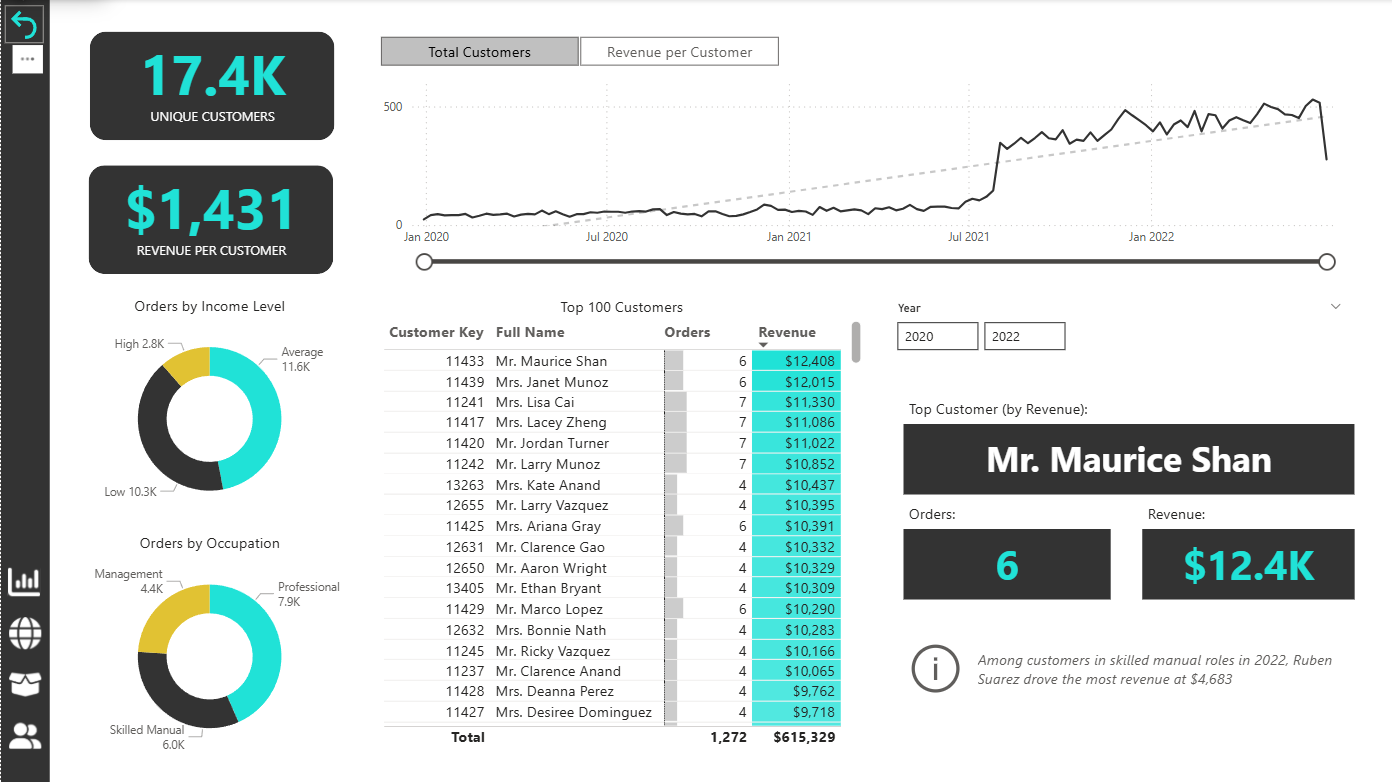

What the dashboard file says about the page in this screenshot:
{"tool":"powerbi","page":{"name":"Customer Detail","canvas":[1280,720],"ordinal":3},"visuals":[{"type":"shape","box":[0,0,45,720],"z":0},{"type":"actionButton","box":[2.5,516.7,45.6,37.8],"z":0,"group":"g1"},{"type":"shape","box":[81.7,30,225,100],"z":1000},{"type":"actionButton","box":[3.3,563.4,45.6,37.8],"z":1000,"group":"g1"},{"type":"shape","box":[80,152.7,225,100],"z":2000},{"type":"actionButton","box":[3.3,611.1,45.6,37.8],"z":2000,"group":"g1"},{"type":"card","fields":{"Values":["Measure Table.Total Customers"]},"box":[66.7,0,256.2,150],"z":3000},{"type":"actionButton","box":[3.3,657.8,45.6,37.8],"z":3000,"group":"g1"},{"type":"card","fields":{"Values":["Measure Table.Average Revenue per Customer"]},"box":[65,122.7,256.2,150],"z":4000},{"type":"lineChart","fields":{"Y":["Measure Table.Total Customers"],"Category":["Calendar Lookup.Date Hierarchy.Year","Calendar Lookup.Date Hierarchy.Start of Month","Calendar Lookup.Date Hierarchy.Start of Week","Calendar Lookup.Date Hierarchy.Date"]},"box":[345.9,63.3,898.6,188.8],"z":5000},{"type":"donutChart","title":"Orders by Income Level","fields":{"Category":["Customer Lookup.Income Level"],"Y":["Measure Table.Total Orders"]},"box":[63.8,272.5,257.5,210],"z":6000},{"type":"donutChart","title":"Orders by Occupation","fields":{"Y":["Measure Table.Total Orders"],"Category":["Customer Lookup.Occupation"]},"box":[63.8,490,257.5,210],"z":7000},{"type":"tableEx","title":"Top 100 Customers","fields":{"Values":["Customer Lookup.CustomerKey","Customer Lookup.Full Name","Measure Table.Total Orders","Measure Table.Total Revenue"]},"box":[346,273.6,449.4,418.4],"z":8000},{"type":"card","fields":{"Values":["Min(Customer Lookup.Full Name)"]},"box":[829.6,390.1,414.5,65.1],"z":9000},{"type":"card","fields":{"Values":["Measure Table.Total Orders"]},"box":[829.6,487,190.7,65.1],"z":10000},{"type":"card","fields":{"Values":["Measure Table.Total Revenue"]},"box":[1048.7,487,195.4,65.1],"z":11000},{"type":"textbox","box":[829.6,361.7,190.7,37.9],"z":12000},{"type":"textbox","box":[829.6,458.4,190.7,37.9],"z":13000},{"type":"textbox","box":[1048.7,458.4,190.7,37.9],"z":14000},{"type":"slicer","fields":{"Values":["Calendar Lookup.Year"]},"box":[811.6,272.4,432.9,80.3],"z":15000},{"type":"actionButton","box":[830,586.7,410,56.7],"z":16000},{"type":"actionButton","box":[3.3,5.6,35.6,35.6],"z":17000},{"type":"group","id":"g1","title":"Navigation Buttons","box":[2.5,516.7,46.4,178.9],"z":18000},{"type":"slicer","fields":{"Values":["Customer Metric Selection.Customer Metric Selection"]},"box":[323.3,27.1,415.9,36.2],"z":19000}]}

Visuals, with their boxes on the page's 1280x720 design canvas (x1, y1, x2, y2). These are canvas units, not pixel positions in the 1392x782 screenshot, which may show the page scaled, cropped or inside an application window:
shape: (0, 0, 45, 720)
actionButton: (2, 517, 48, 554)
shape: (82, 30, 307, 130)
actionButton: (3, 563, 49, 601)
shape: (80, 153, 305, 253)
actionButton: (3, 611, 49, 649)
card - Measure Table.Total Customers: (67, 0, 323, 150)
actionButton: (3, 658, 49, 696)
card - Measure Table.Average Revenue per Customer: (65, 123, 321, 273)
lineChart - Measure Table.Total Customers x Calendar Lookup.Date Hierarchy.Year: (346, 63, 1244, 252)
"Orders by Income Level" donutChart: (64, 272, 321, 482)
"Orders by Occupation" donutChart: (64, 490, 321, 700)
"Top 100 Customers" tableEx: (346, 274, 795, 692)
card - Min(Customer Lookup.Full Name): (830, 390, 1244, 455)
card - Measure Table.Total Orders: (830, 487, 1020, 552)
card - Measure Table.Total Revenue: (1049, 487, 1244, 552)
textbox: (830, 362, 1020, 400)
textbox: (830, 458, 1020, 496)
textbox: (1049, 458, 1239, 496)
slicer - Calendar Lookup.Year: (812, 272, 1244, 353)
actionButton: (830, 587, 1240, 643)
actionButton: (3, 6, 39, 41)
"Navigation Buttons" group: (2, 517, 49, 696)
slicer - Customer Metric Selection.Customer Metric Selection: (323, 27, 739, 63)
